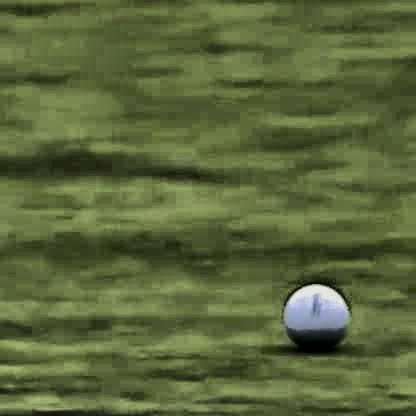golfball: (280, 280, 348, 348)
